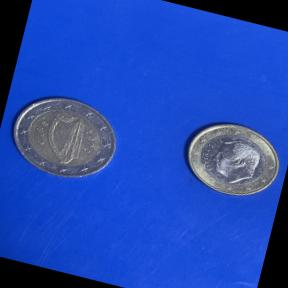coin: (0, 82, 128, 193), (170, 109, 288, 210)
